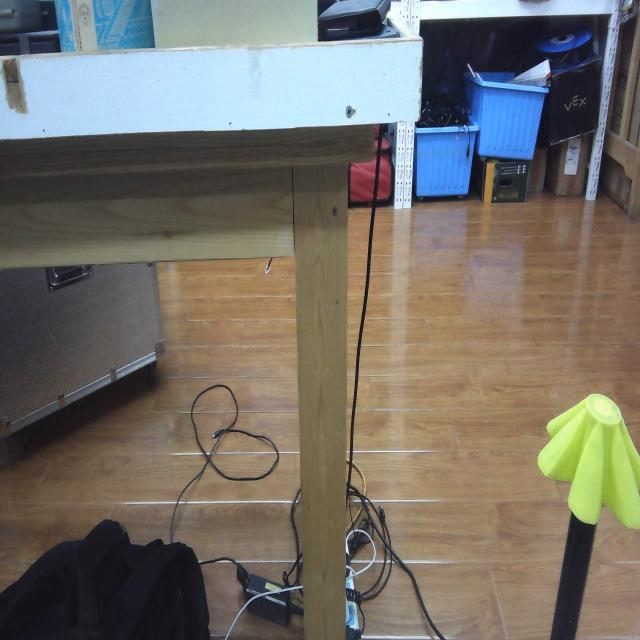Yellow-Stake-Head: (537, 392, 640, 529)
